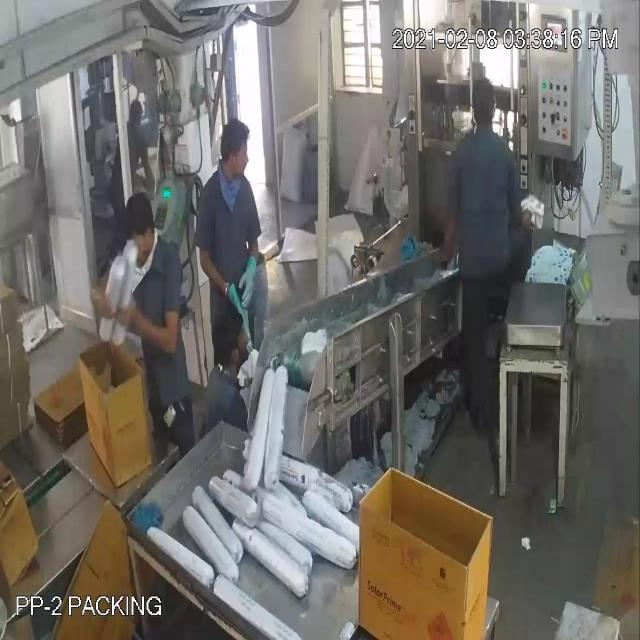No_Gloves: (30, 72, 252, 326)
